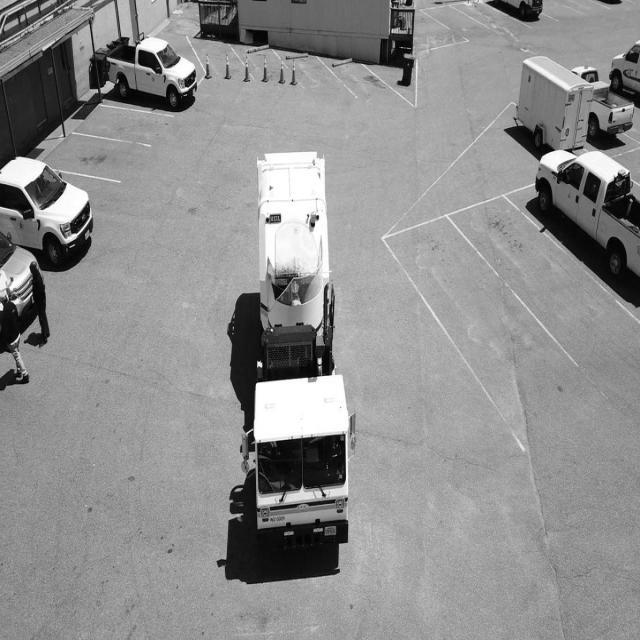Garbage Truck: (240, 152, 356, 549)
Pickup: (535, 150, 640, 279)
Trailer: (519, 55, 594, 151)
